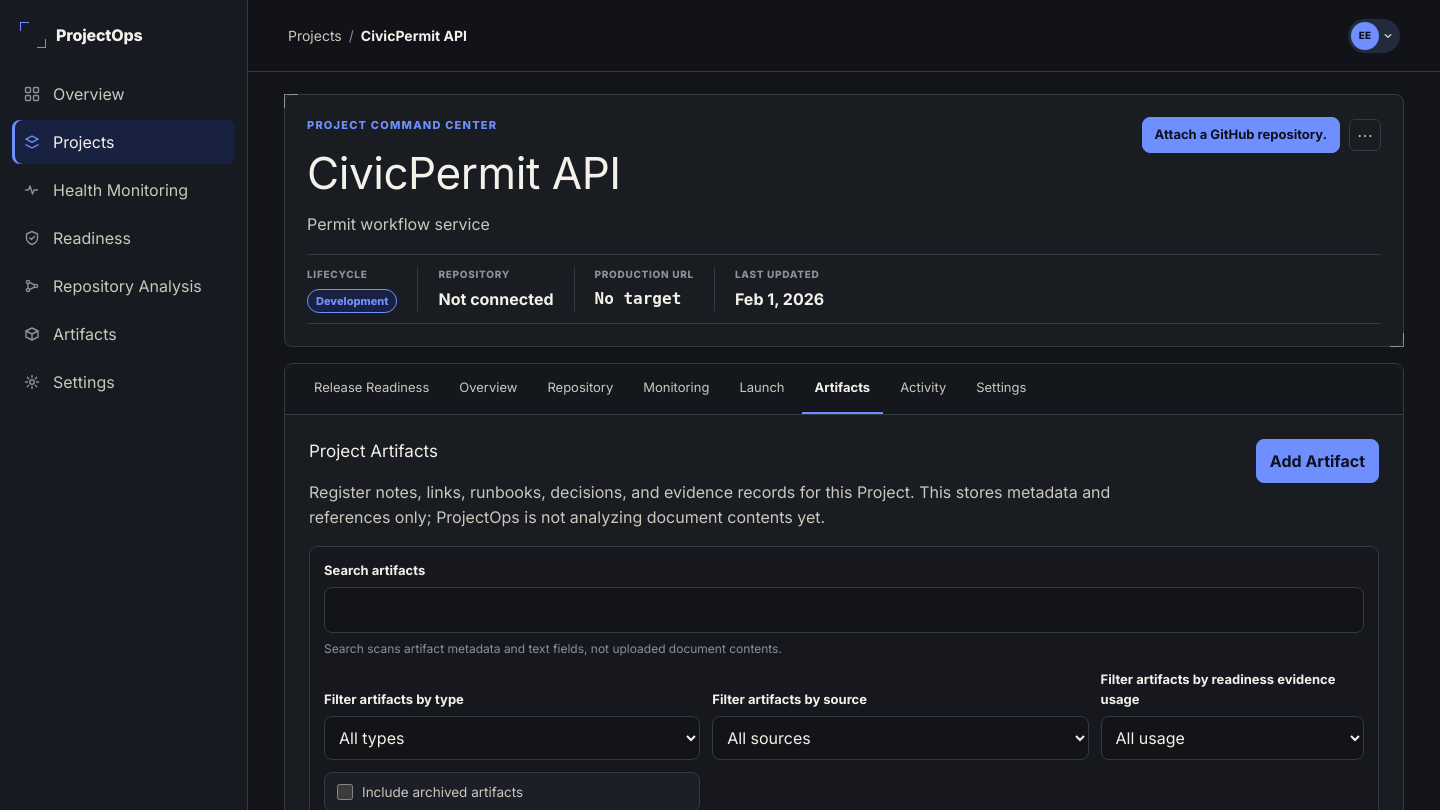
it: Project detail Artifacts › filters artifacts by readiness evidence usage
This screenshot has width=1440, height=810.
Select "Linked to readiness" in the dropdown labelled "Filter artifacts by readiness evidence usage" at (1232, 738), box [1101,716,1364,760]
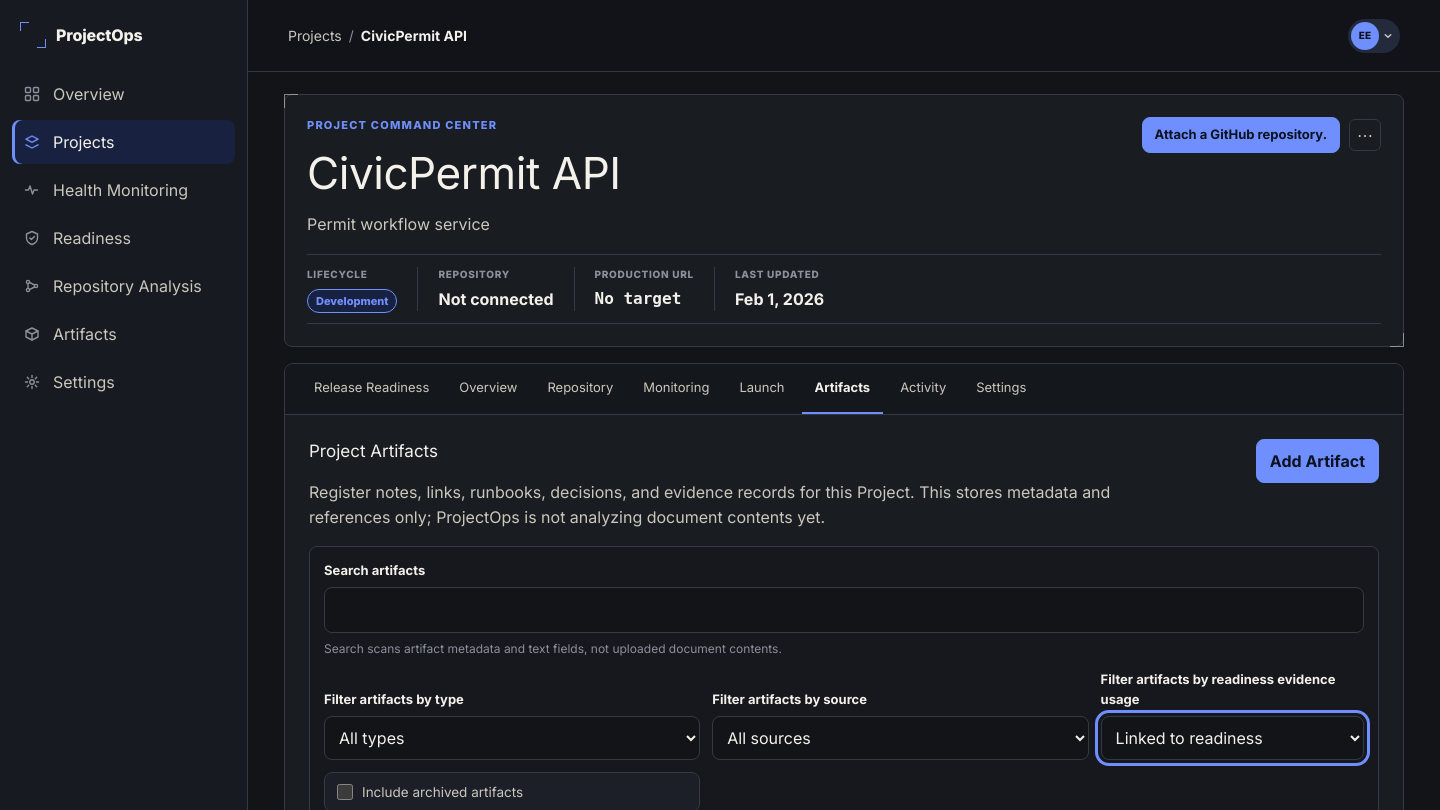
Check: the text "Incident review note" is not shown
Select "Not linked to readiness" in the dropdown labelled "Filter artifacts by readiness evidence usage" at (1232, 738), box [1101,716,1364,760]
(page scrolled)
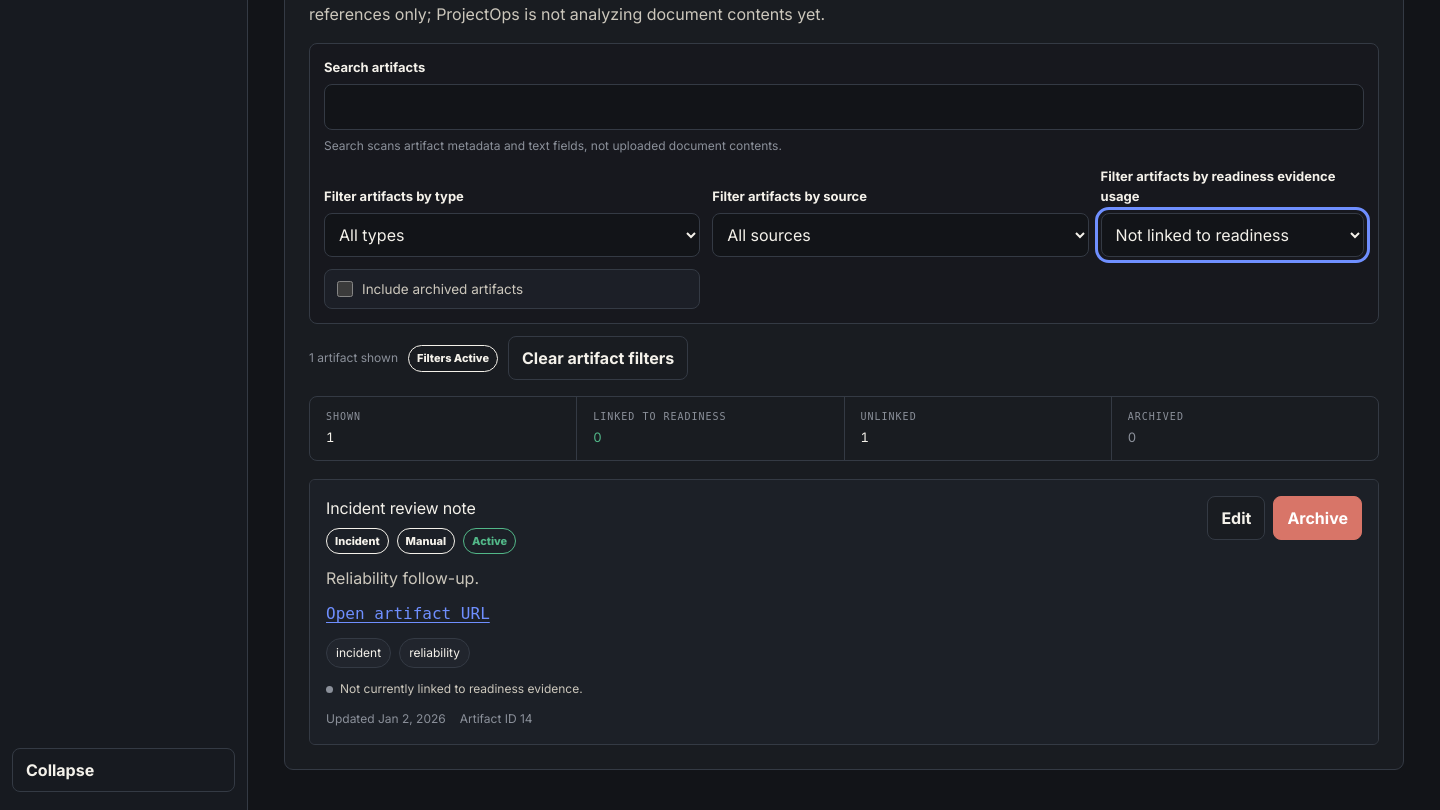
Check: the heading "Incident review note" is shown, box [326,498,476,518]
